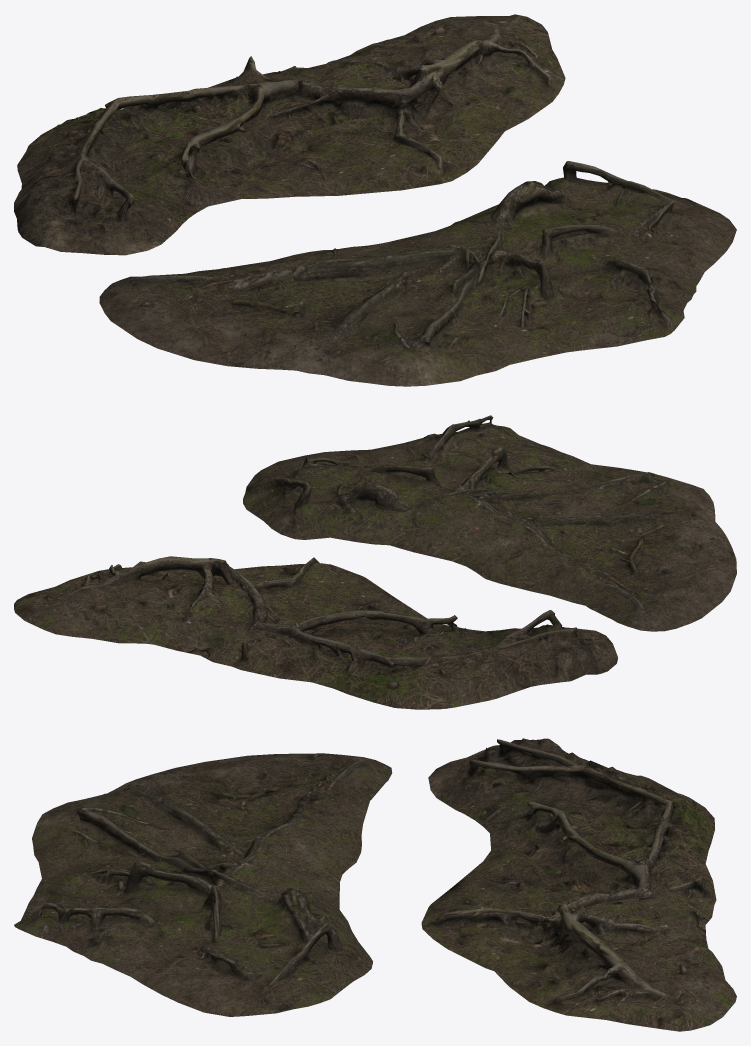
File: pine_roots.glb
3 renders of one model, top to bottom at view 1: azimuth 30°, elevation 25°; view 2: azimuth 150°, elevation 25°; view 3: azimuth 270°, elevation 25°, orthographic. The views are drawn at different scales.
Parts seen in each view (by area): view 1: pine_roots_b, pine_roots_a; view 2: pine_roots_b, pine_roots_a; view 3: pine_roots_b, pine_roots_a.
Part boxes in pixels (x1,y1,x2,y2): pine_roots_b: (99,161,736,386); pine_roots_a: (14,14,565,255); pine_roots_b: (243,415,736,631); pine_roots_a: (14,556,617,709); pine_roots_b: (14,753,392,1016); pine_roots_a: (421,738,736,1031).
Size of the model in its own units: 1.77 by 0.1538 by 1.89.
2 materials, 2 textured.
